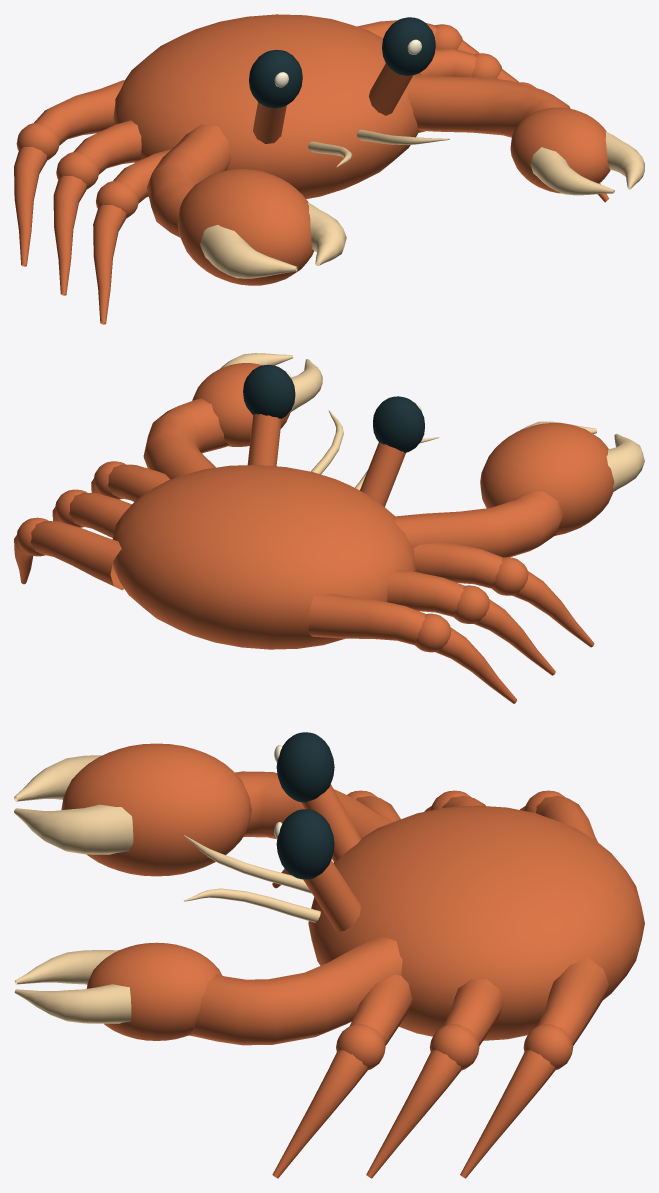
Rendered from crab_body.glb.
The picture shows the model from 3 angles, top to bottom: view 1: azimuth 30°, elevation 25°; view 2: azimuth 150°, elevation 25°; view 3: azimuth 270°, elevation 25°; orthographic projection. The views are drawn at different scales.
Parts seen in each view (by area): view 1: crab_body_textured_mesh; view 2: crab_body_textured_mesh; view 3: crab_body_textured_mesh.
Boxes of the visible parts, x1=… form: crab_body_textured_mesh: x1=14, y1=14, x2=644, y2=324; crab_body_textured_mesh: x1=14, y1=353, x2=644, y2=703; crab_body_textured_mesh: x1=14, y1=732, x2=644, y2=1178.
Bounding box in the file's own units: 2.52 × 1.04 × 2.29.
1 material, 1 textured.
